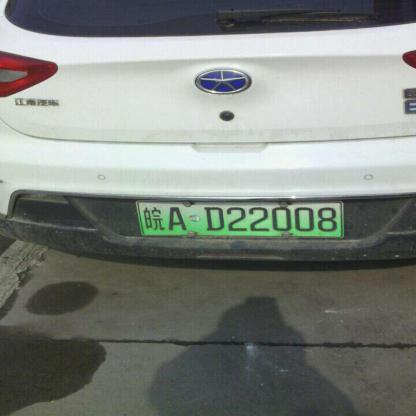lp: (139, 202, 341, 236)
